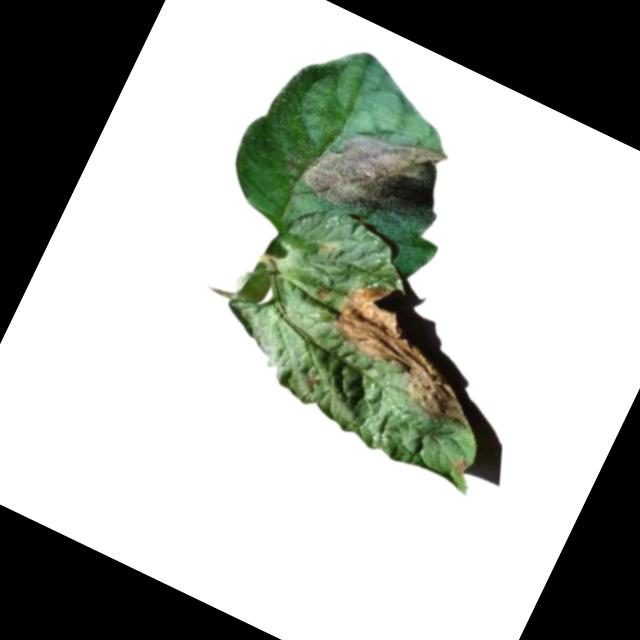Late_blight: (311, 270, 506, 434), (293, 99, 463, 249), (447, 452, 473, 478)
